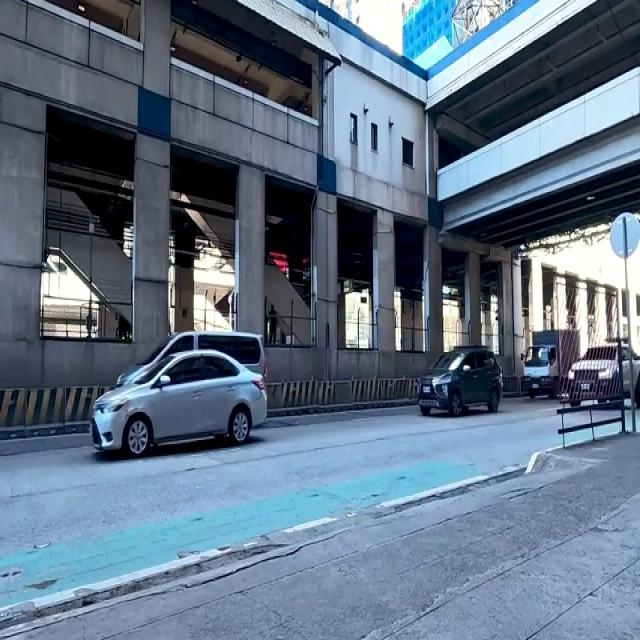car: (88, 358, 244, 460), (111, 328, 265, 427), (415, 342, 504, 420), (568, 347, 639, 407)
truck: (518, 326, 586, 403)
